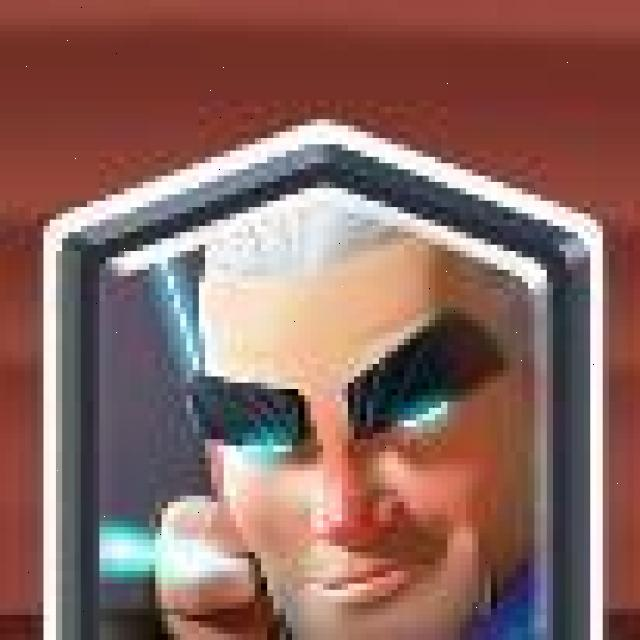Magic_Archer: (52, 120, 605, 640)
